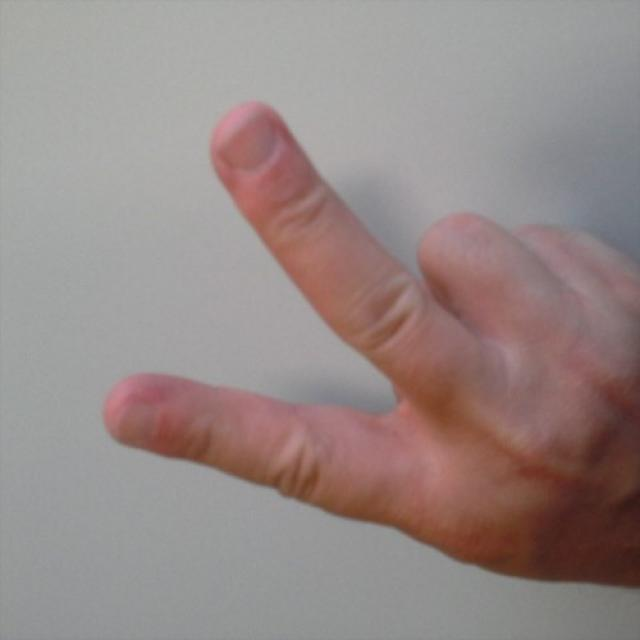scissors: (107, 97, 640, 592)
